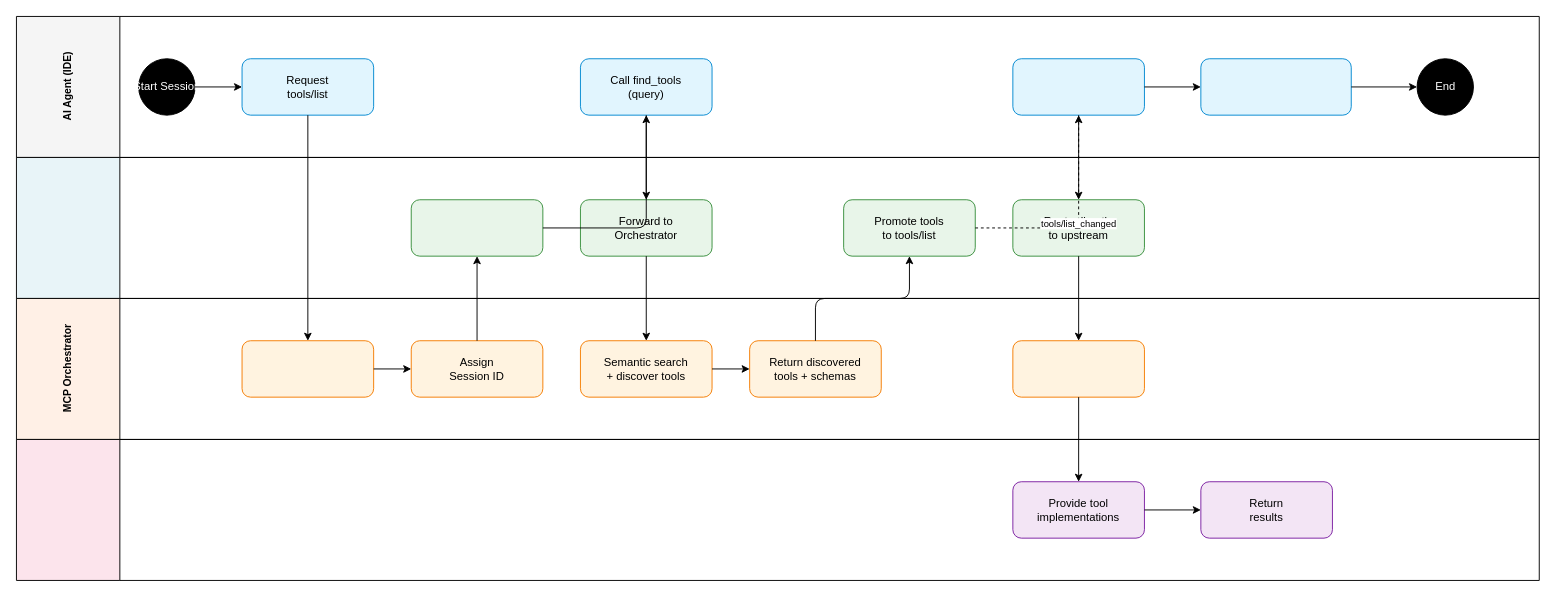
This 1556x597 diagram has some shape labels left out. The box of each missing label's shape, as (x1, y1, x2, y2) in pixels:
Accept HTTP Streamable conn: (241, 340, 374, 397)
Call promoted tool directly: (1012, 58, 1144, 115)
Call stream_write_file (append loop): (1200, 58, 1351, 115)
Execute on upstream server: (1012, 340, 1144, 397)
MCP Client Bridge: (16, 157, 1539, 298)
Return minimal meta-tools: (410, 199, 543, 256)
Upstream Servers: (16, 439, 1539, 580)
